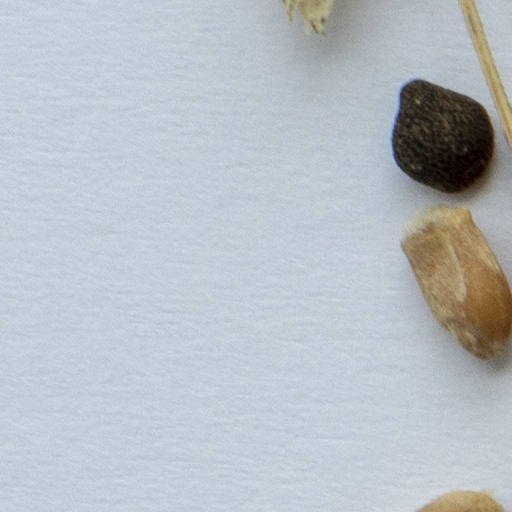Wheat-grain-damaged-poly: (399, 202, 511, 369)
